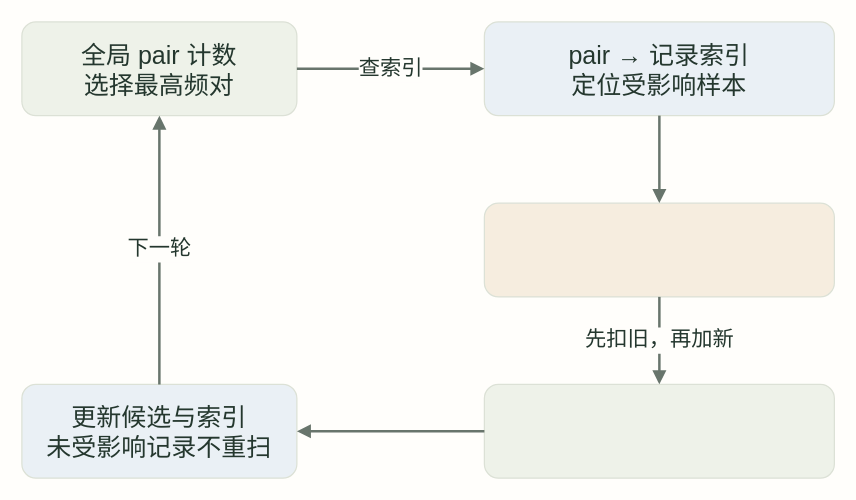
This 856x500 diagram has some shape labels left out. The shapes that lost their labels are listed below. From the top down, each one's box as (x1, y1, x2, y2) in pixels, then its label:
(483, 202, 834, 297): 扣除这些记录 原有 pair 贡献
(483, 383, 834, 478): 执行合并 重计新 pair 并加回
